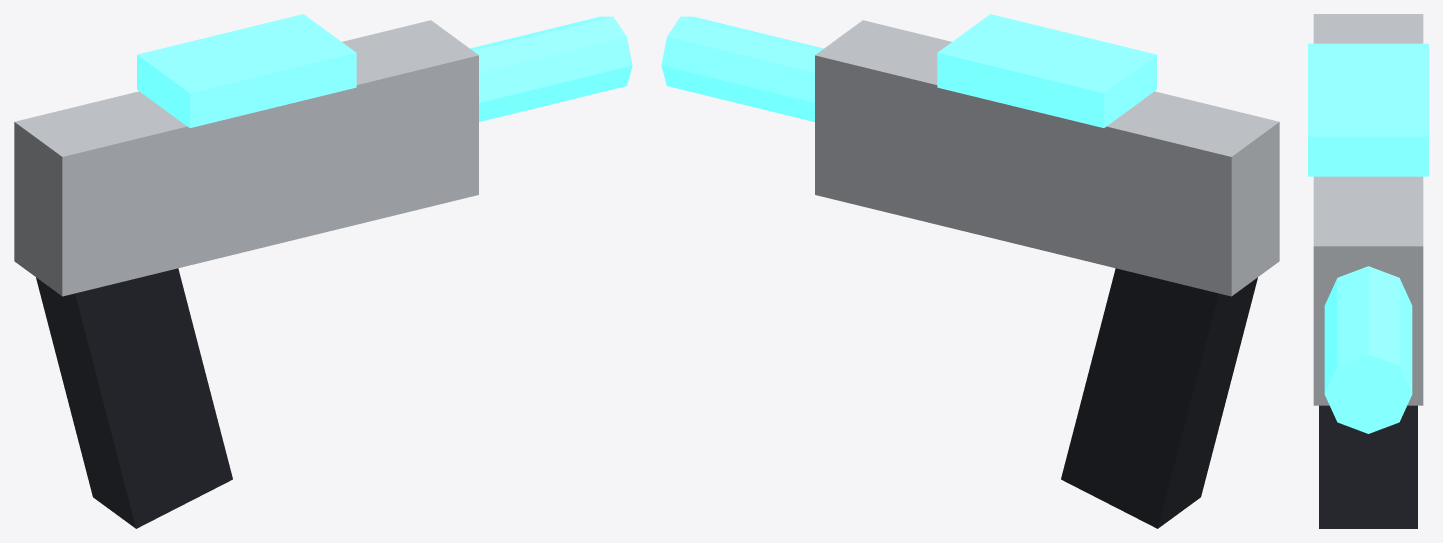
Rendered from laser_pistol.fbx.
3 views of the same model, side by side, from view 1: azimuth 30°, elevation 25°; view 2: azimuth 150°, elevation 25°; view 3: azimuth 270°, elevation 25° (orthographic). The views are drawn at different scales.
Visible parts, largest first — view 1: laser_pistol; view 2: laser_pistol; view 3: laser_pistol.
Boxes of the visible parts, bbox=[...] form: laser_pistol: bbox=[14, 14, 632, 528]; laser_pistol: bbox=[661, 14, 1279, 528]; laser_pistol: bbox=[1308, 14, 1428, 528].
Size of the model in its own units: 0.345 by 0.2449 by 0.055.
